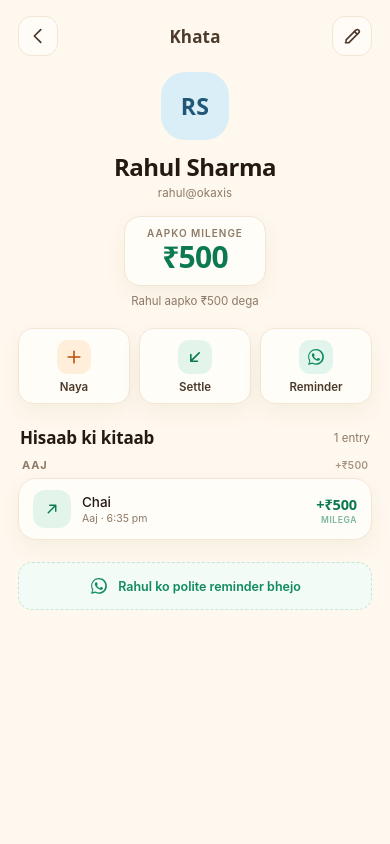
manual entry and settle › settles a khata to zero
expect the text "Aapko milenge" is shown: met, box [147, 227, 243, 239]
Click the button "Settle": (195, 366) [139, 328, 251, 404]
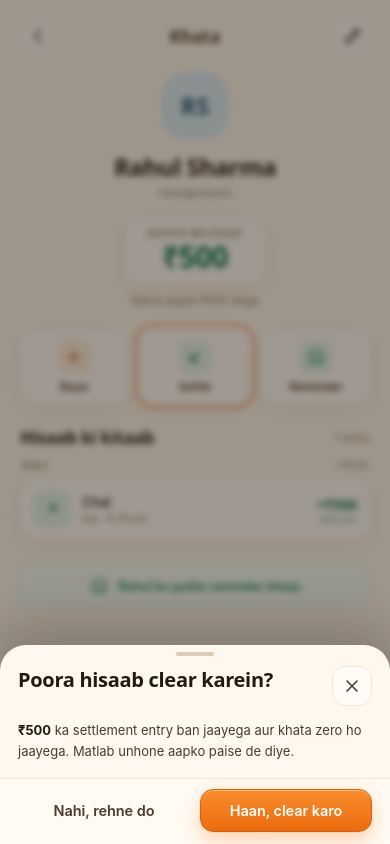
expect the heading "Poora hisaab clear karein?" is shown: met, box [18, 666, 273, 693]
Click the button "Haan, clear karo": (286, 810) [200, 789, 372, 832]
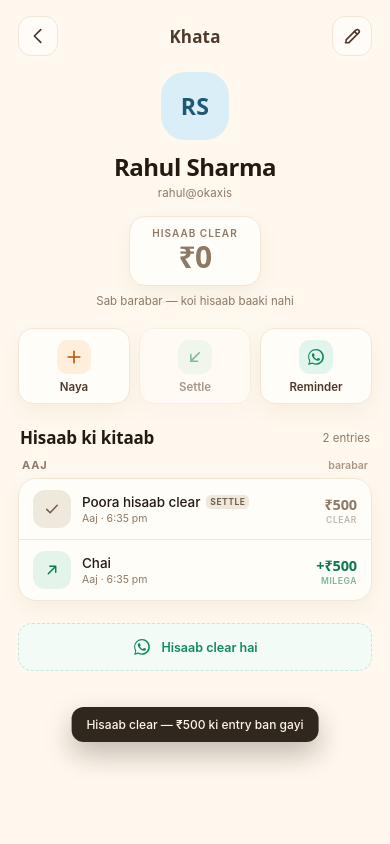
expect the text "Hisaab clear" is shown: met, box [152, 227, 238, 239]
